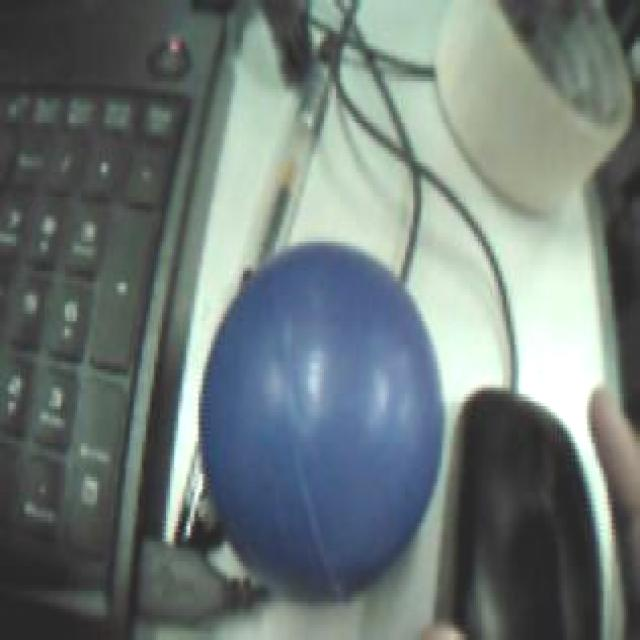BallPurple: (202, 242, 444, 601)
